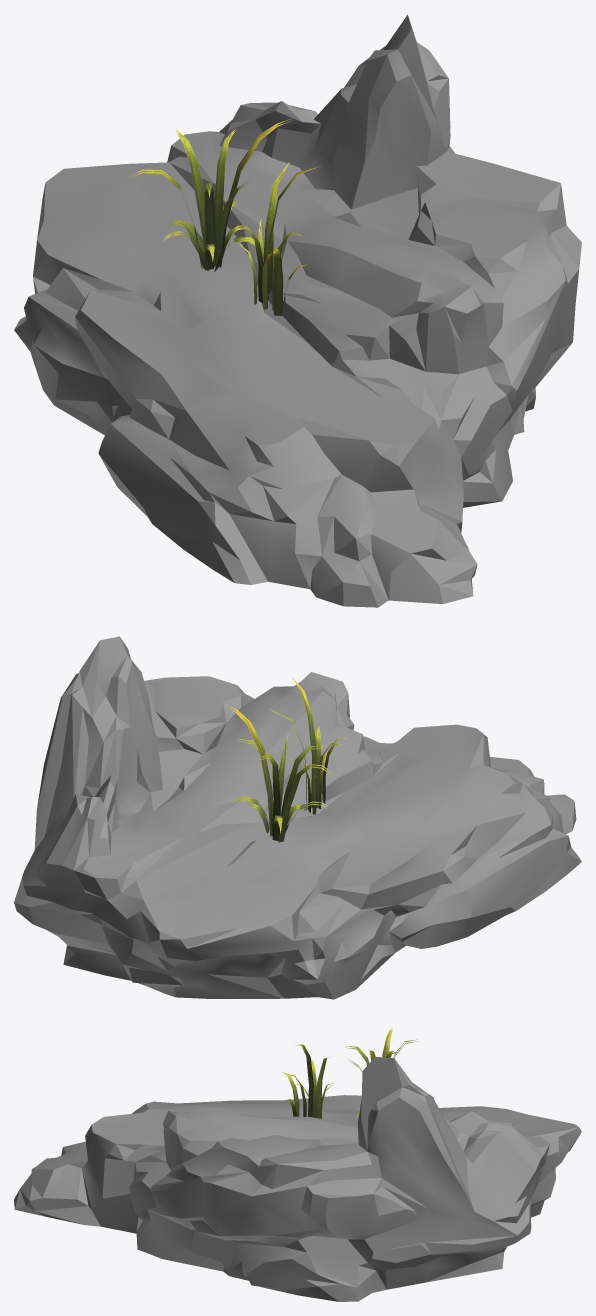
Rendered from d_1000_shitou01.FBX.
3 renders of one model, top to bottom at view 1: azimuth 30°, elevation 25°; view 2: azimuth 150°, elevation 25°; view 3: azimuth 270°, elevation 25°, orthographic. The views are drawn at different scales.
Visible parts, largest first — view 1: Group18263, Plane021, Plane029; view 2: Group18263, Plane021, Plane029; view 3: Group18263, Plane029, Plane021.
Part boxes in pixels (<box>): Group18263: <box>14,14,581,607</box>; Plane021: <box>128,118,292,271</box>; Plane029: <box>235,162,321,315</box>; Group18263: <box>14,636,581,999</box>; Plane021: <box>224,704,331,842</box>; Plane029: <box>269,677,346,814</box>; Group18263: <box>14,1056,581,1301</box>; Plane029: <box>282,1044,333,1118</box>; Plane021: <box>345,1028,418,1117</box>.
Size of the model in its own units: 81.79 by 54.62 by 126.
